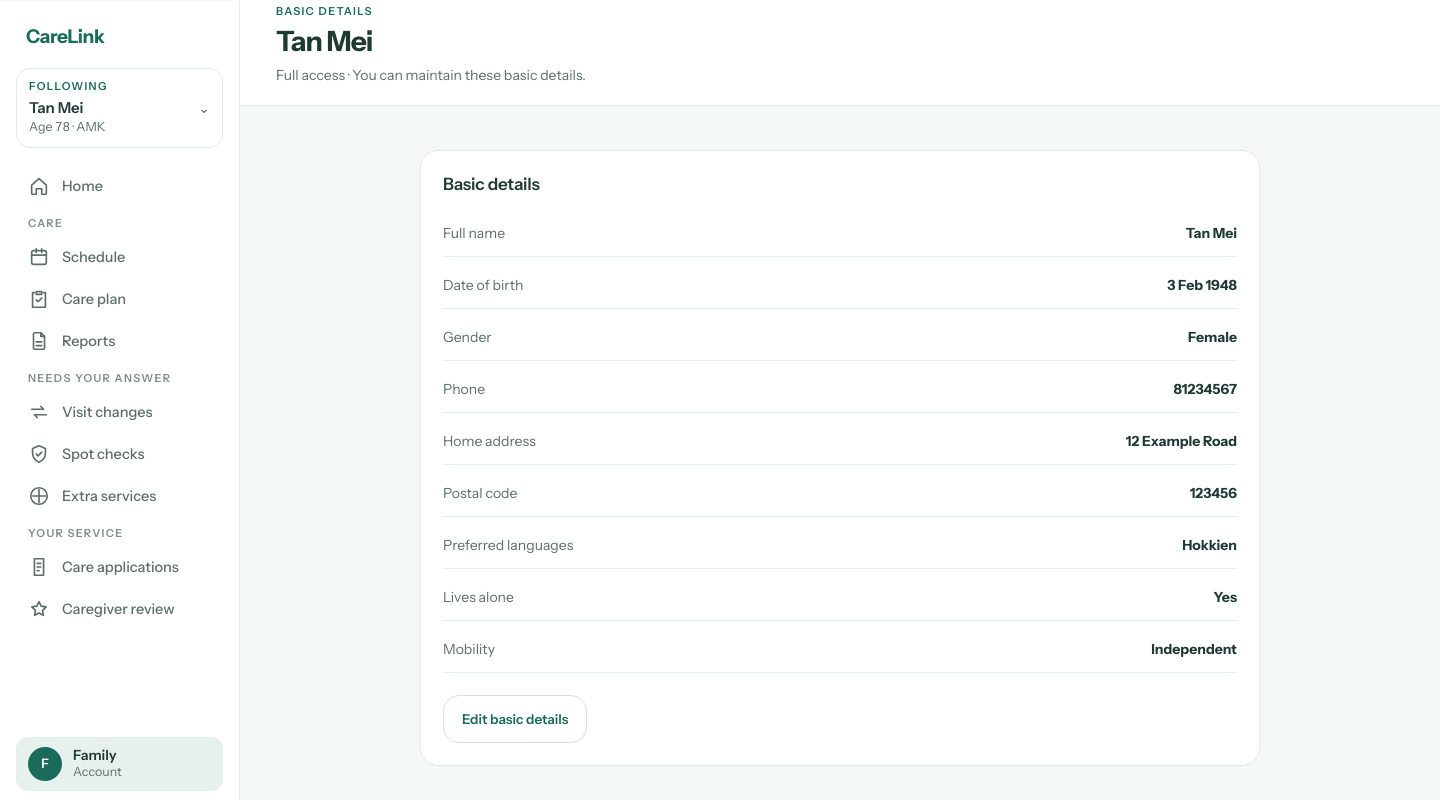
it: My elders and basic details › discards unsaved details when switching to a different elder
(page scrolled)
Click the button "Edit basic details" at (515, 719), box x1=443 y1=695 x2=587 y2=743
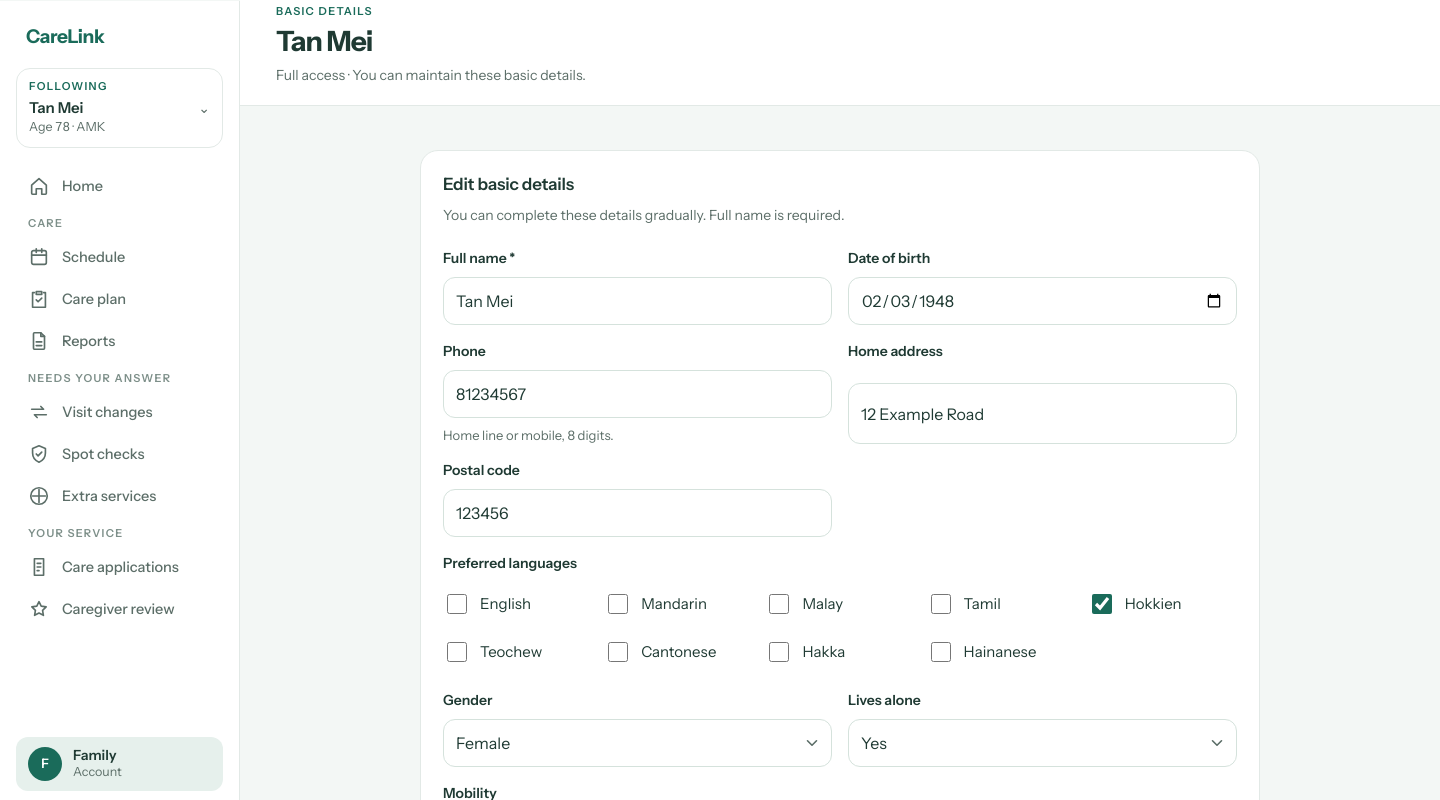
Replace the text in the field labelled "Full name *" with "Unsaved name" at (638, 301), box x1=443 y1=277 x2=832 y2=325
(page scrolled)
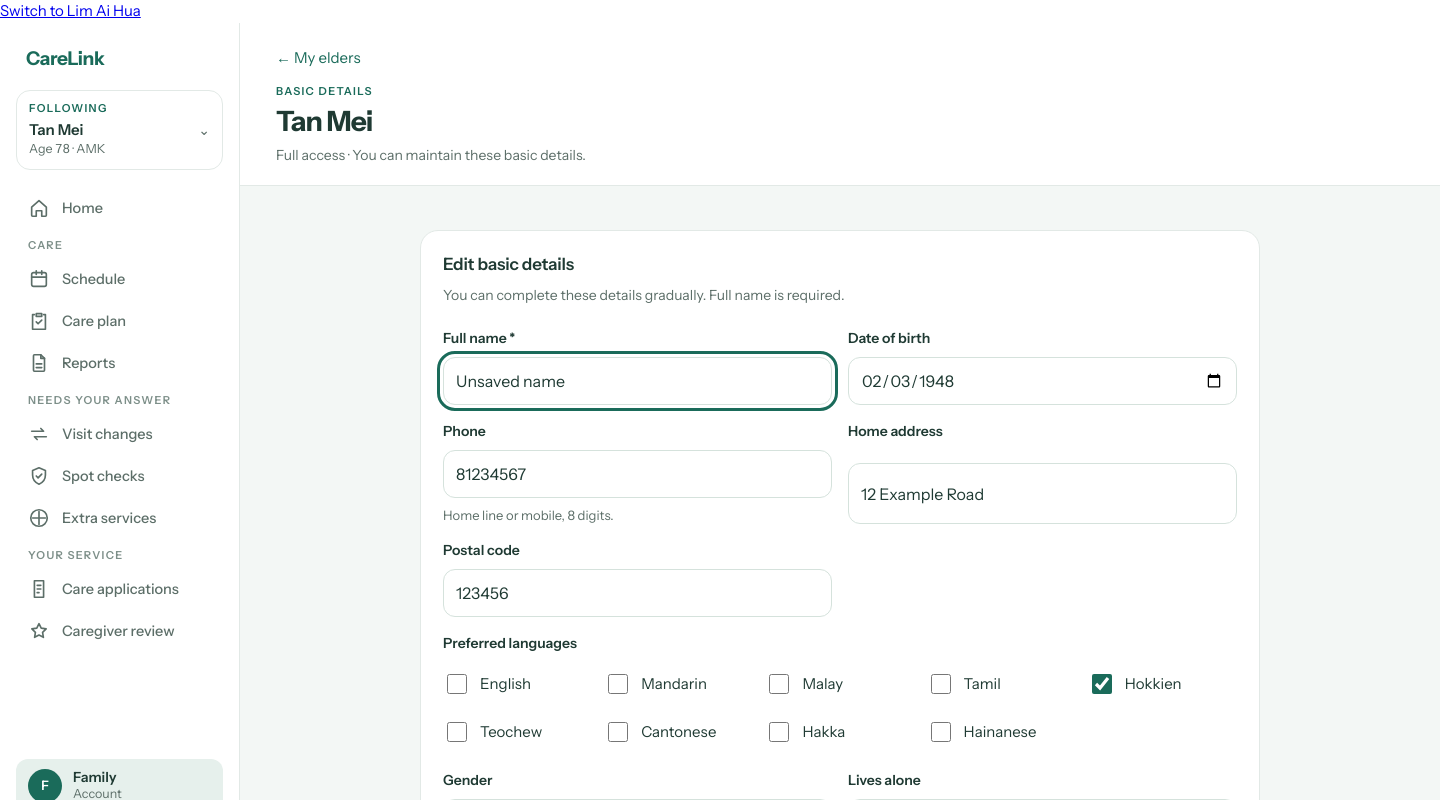
Click the link "Switch to Lim Ai Hua" at (70, 10), box x1=0 y1=1 x2=141 y2=20
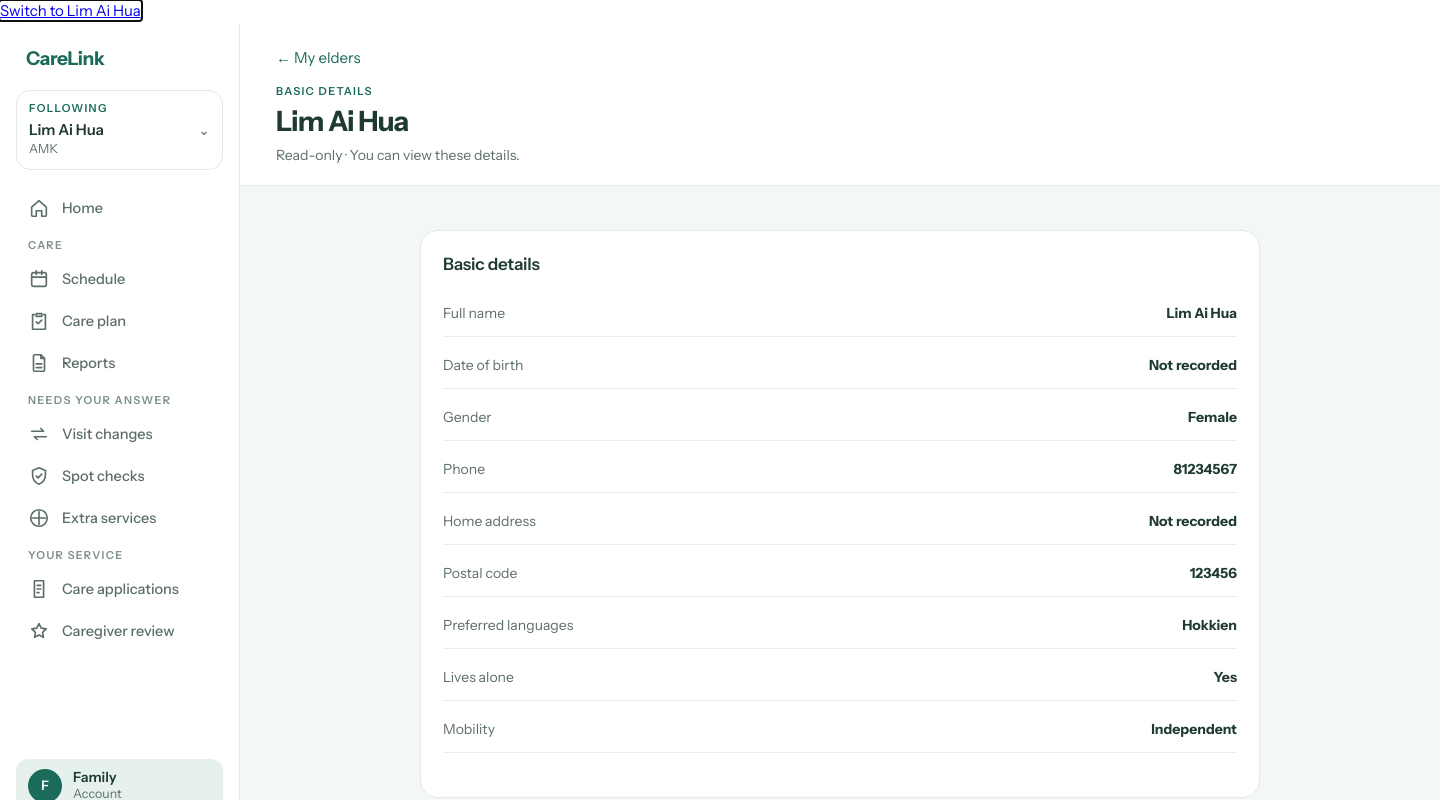
Expected: the field showing "Unsaved name" is not shown
Now the heading "Lim Ai Hua" is shown, box x1=276 y1=104 x2=408 y2=138
